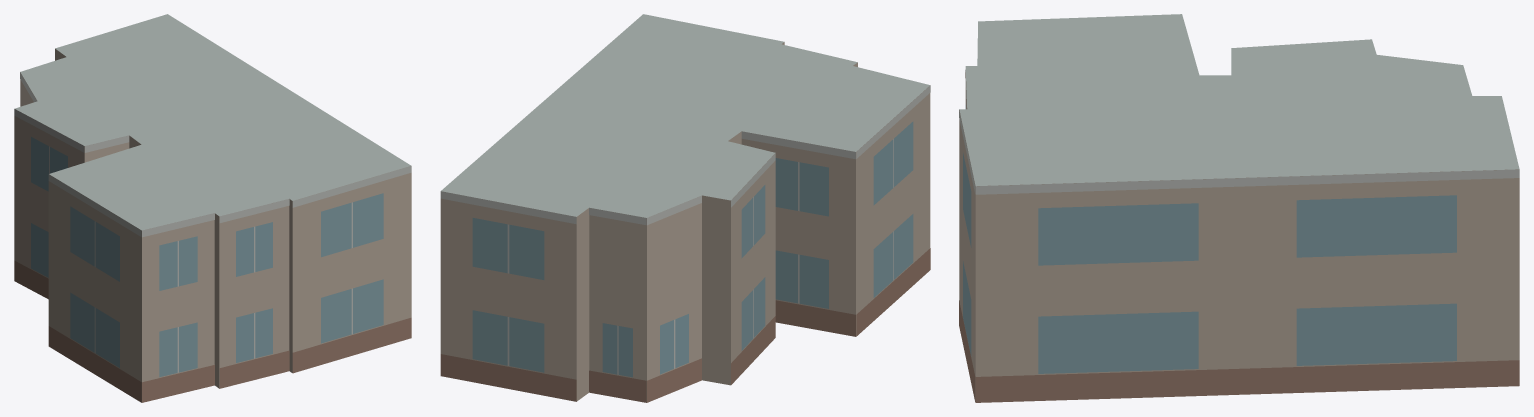
Rendered from survey-upis-32678193.glb.
The picture shows the model from 3 angles, left to right: view 1: azimuth 30°, elevation 25°; view 2: azimuth 150°, elevation 25°; view 3: azimuth 270°, elevation 25°; orthographic projection. The views are drawn at different scales.
Visible parts, largest first — view 1: survey-upis-32678193.tmp; view 2: survey-upis-32678193.tmp; view 3: survey-upis-32678193.tmp.
Boxes of the visible parts, x1=… form: survey-upis-32678193.tmp: x1=14, y1=14, x2=411, y2=402; survey-upis-32678193.tmp: x1=440, y1=14, x2=930, y2=402; survey-upis-32678193.tmp: x1=959, y1=14, x2=1519, y2=402.
Size of the model in its own units: 10.4 by 6.1 by 14.31.
